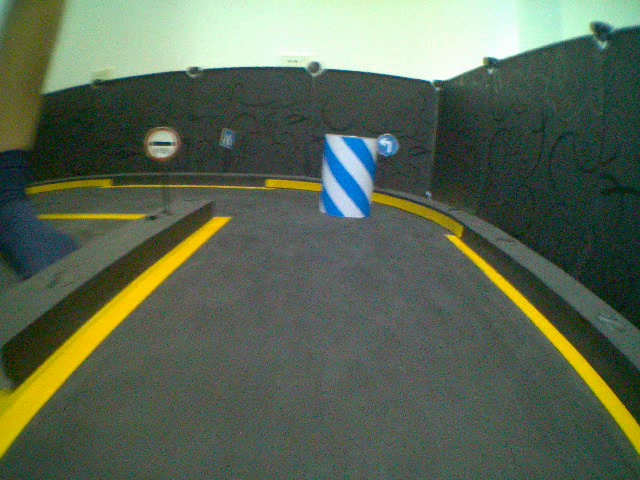bucket: (315, 129, 379, 224)
